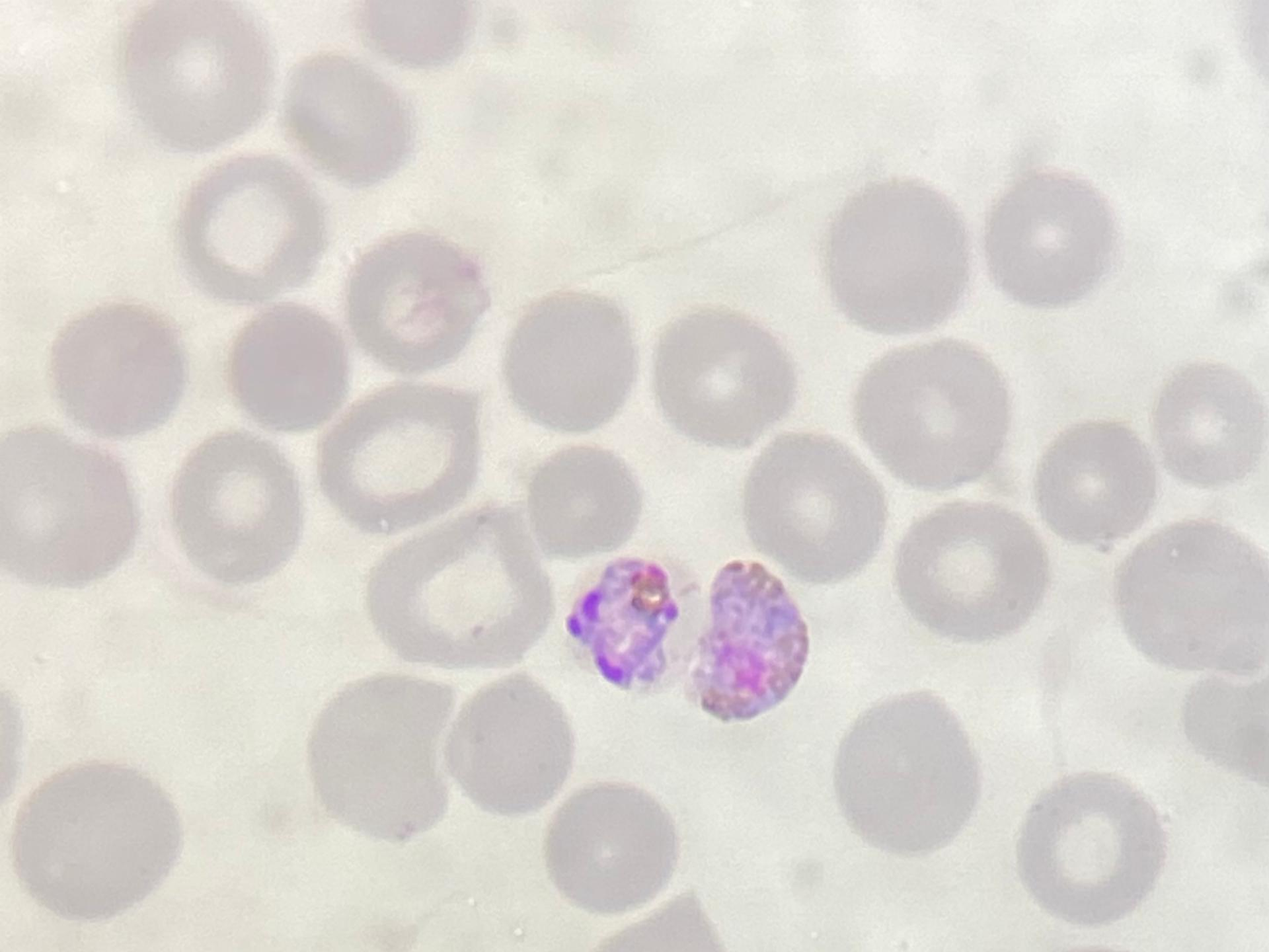Infected: (564, 549, 707, 691), (689, 561, 810, 719)
Uninfected: (362, 502, 555, 672), (9, 762, 181, 920), (316, 382, 488, 536), (307, 676, 461, 841), (831, 693, 985, 855), (1114, 520, 1269, 675), (852, 340, 1011, 489), (825, 177, 973, 331), (179, 157, 333, 303), (893, 502, 1051, 643), (1, 428, 139, 588), (1014, 774, 1164, 921), (167, 430, 306, 588), (122, 2, 270, 149), (342, 231, 492, 373), (740, 431, 882, 580), (650, 309, 793, 448), (498, 292, 638, 431), (46, 302, 185, 438), (443, 676, 572, 816), (541, 783, 675, 912), (284, 52, 414, 184), (985, 169, 1101, 315), (225, 304, 351, 431), (1034, 420, 1157, 541), (1150, 360, 1266, 486), (523, 444, 641, 558), (1182, 670, 1266, 796)
